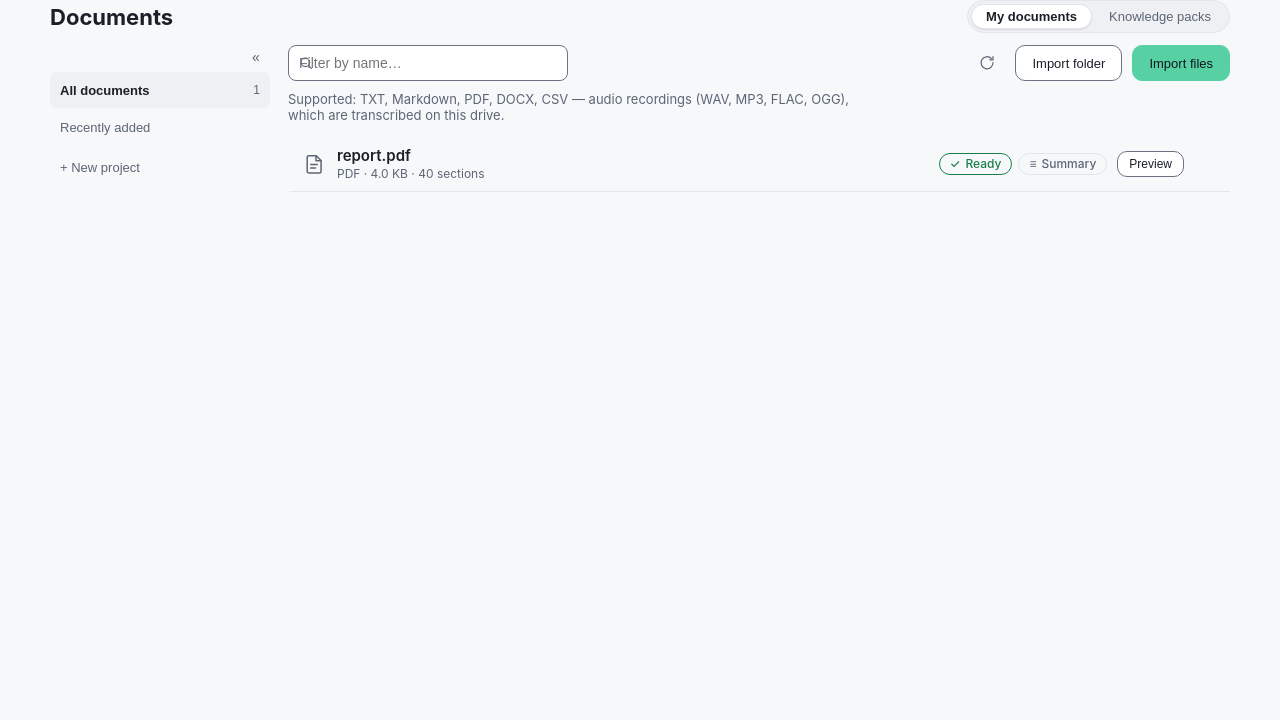
Test: DocumentsScreen — Build deep index + C4 gate › the preview meter renders the coverage from analysis:coverage
The image size is (1280, 720).
Expected: the text "report.pdf" is shown, [337, 146, 411, 164]
Click the button "Preview".
click(1151, 164)  # box [1117, 150, 1184, 176]
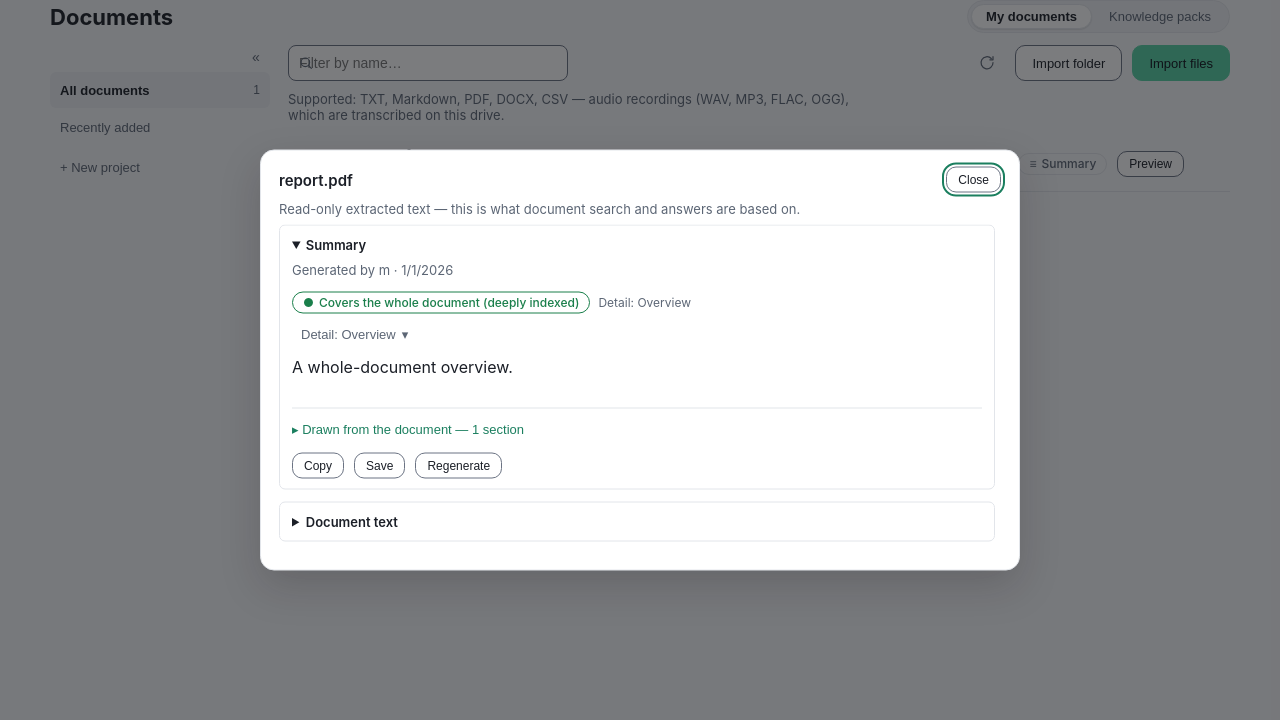
Now the text "Covers the whole document (deeply indexed)" is shown, box [319, 294, 579, 310]
Now the button "Detail: Overview ▾" is shown, box [292, 322, 982, 346]
